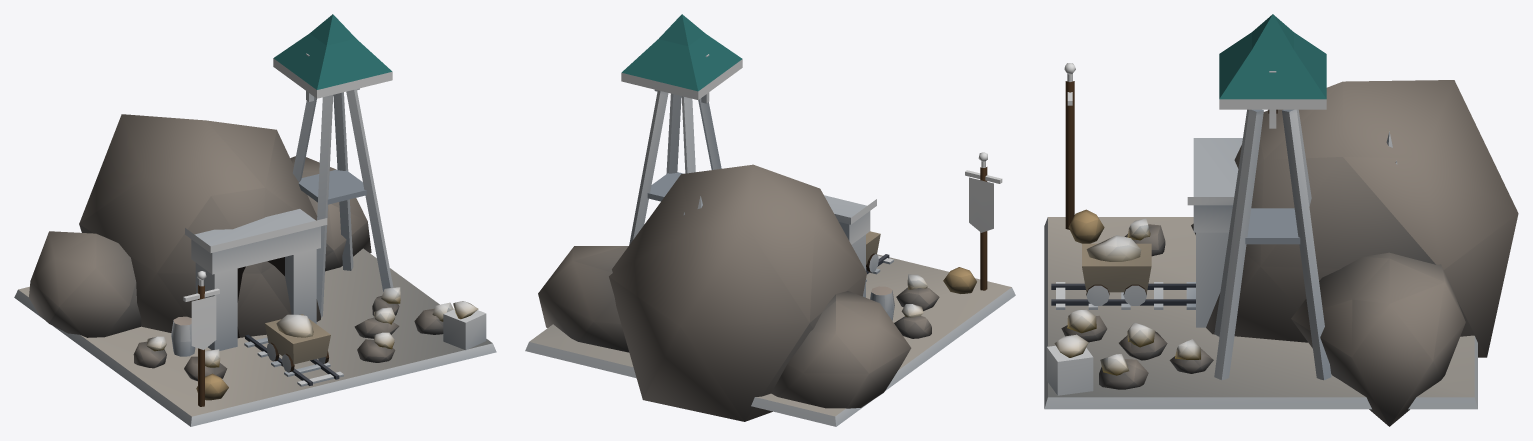
Rendered from goldmine_t5.glb.
The picture shows the model from 3 angles, left to right: view 1: azimuth 30°, elevation 25°; view 2: azimuth 150°, elevation 25°; view 3: azimuth 270°, elevation 25°; orthographic projection. The views are drawn at different scales.
Parts seen in each view (by area): view 1: goldmine_t5; view 2: goldmine_t5; view 3: goldmine_t5.
Part boxes in pixels (<box>): goldmine_t5: <box>14,14,496,426</box>; goldmine_t5: <box>525,14,1015,426</box>; goldmine_t5: <box>1044,14,1518,426</box>.
Size of the model in its own units: 2.04 by 1.78 by 2.03.
